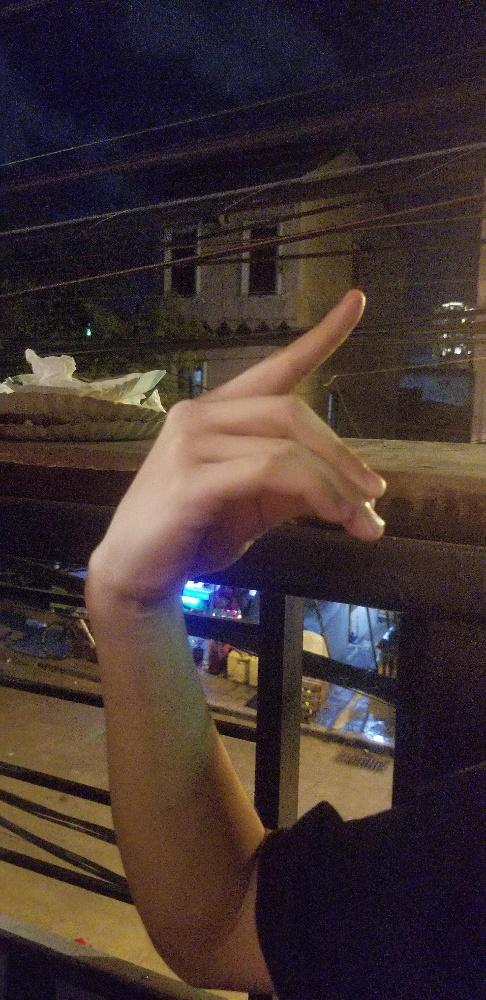d: (99, 283, 397, 609)
